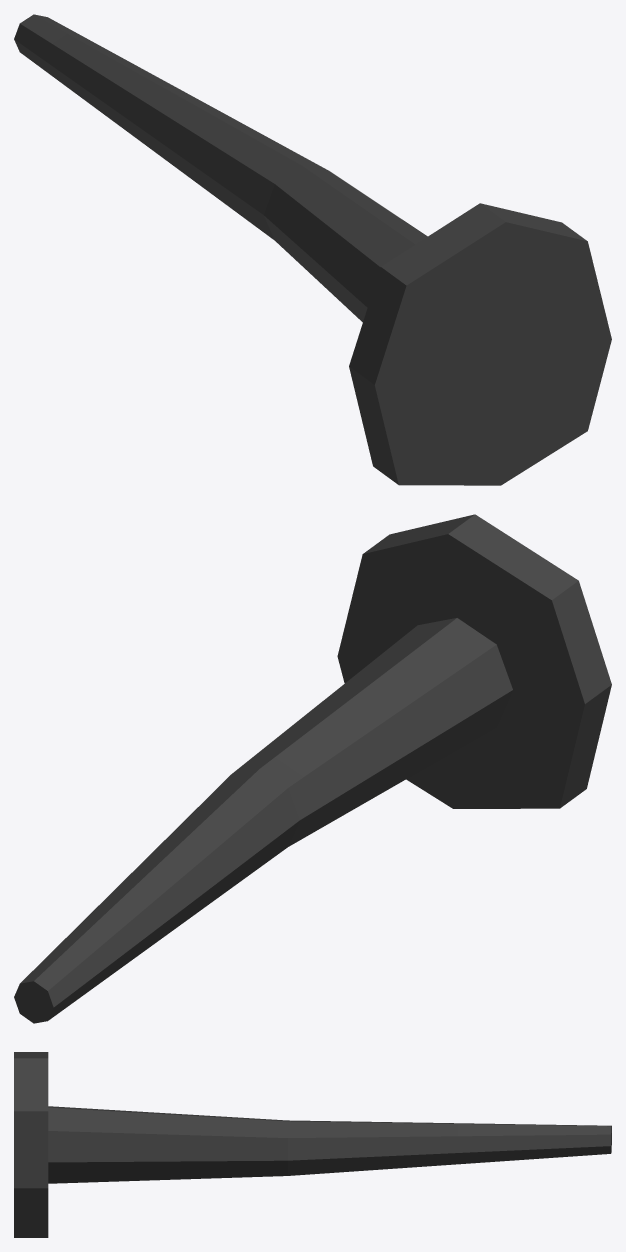
The model's file is Spike.glb.
The picture shows the model from 3 angles, top to bottom: view 1: azimuth 30°, elevation 25°; view 2: azimuth 150°, elevation 25°; view 3: azimuth 270°, elevation 25°; orthographic projection. The views are drawn at different scales.
Parts seen in each view (by area): view 1: Spike; view 2: Spike; view 3: Spike.
Part boxes in pixels (x1,y1,x2,y2): Spike: [14, 14, 611, 485]; Spike: [14, 514, 611, 1023]; Spike: [14, 1052, 611, 1237].
Size of the model in its own units: 0.0222 by 0.0235 by 0.0726.
1 material, 1 textured.
